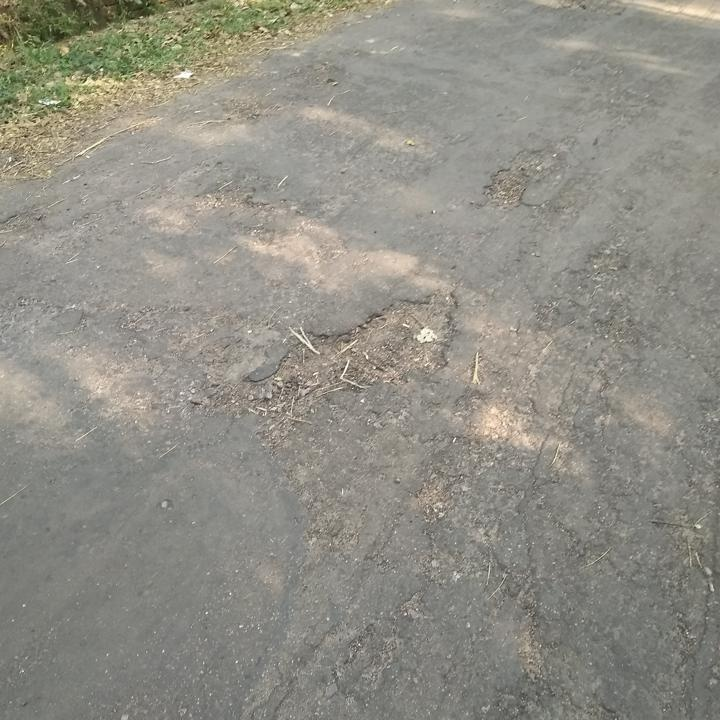pothole: (224, 283, 459, 415), (477, 146, 558, 210), (0, 207, 46, 232)
